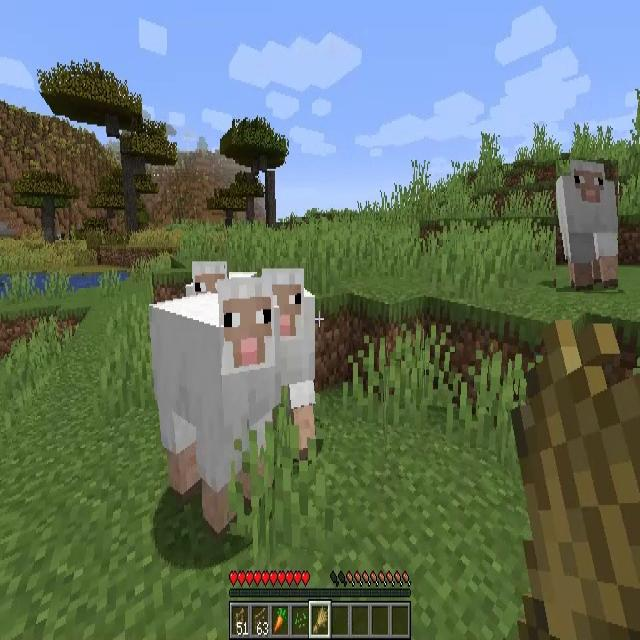sheep: (150, 297, 276, 528), (239, 270, 313, 453), (556, 160, 618, 292)
